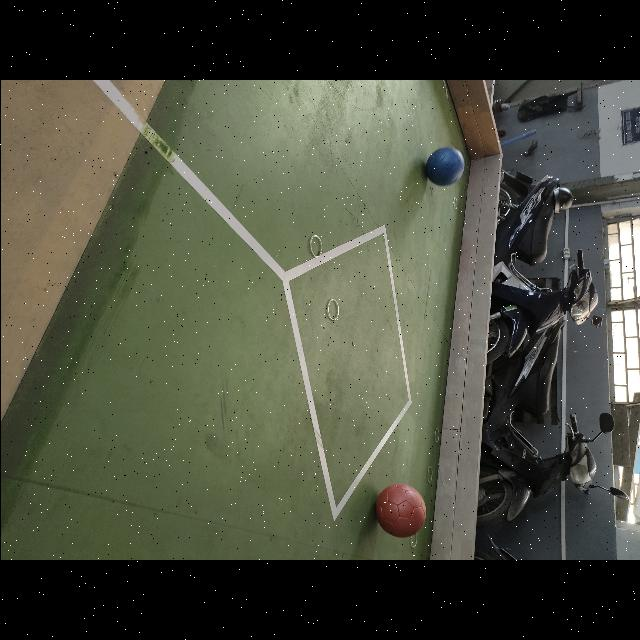B: (424, 147, 464, 186)
R: (375, 483, 425, 537)
